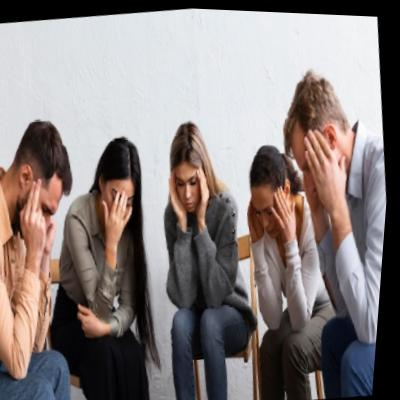sad: (251, 182, 287, 239), (176, 162, 207, 210)
